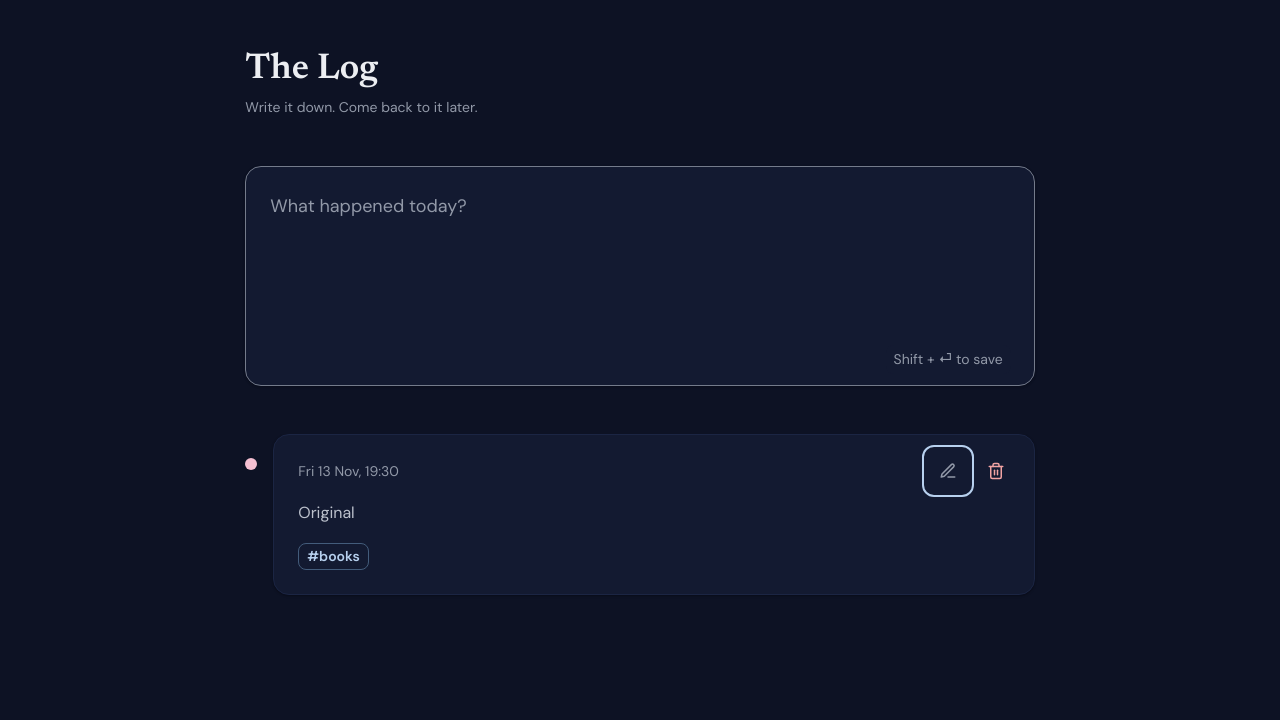
it: removes the card from the log and moves focus to the heading when the dialog closes after "no longer exists"
Step 1. Click the button named "Edit thought, Fri 13 Nov, 19:30" → (948, 471), box [926,449,970,493]
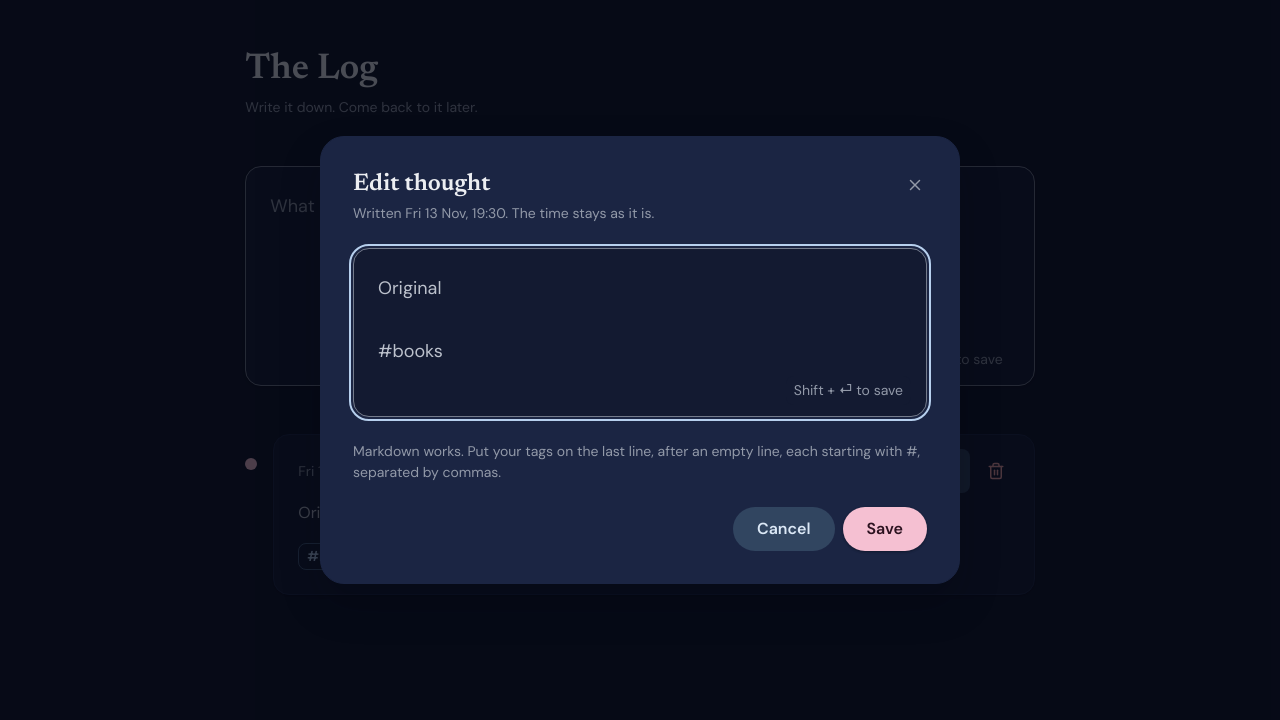
Step 2. Click the button "Save" → (885, 529), box [843,507,927,551]
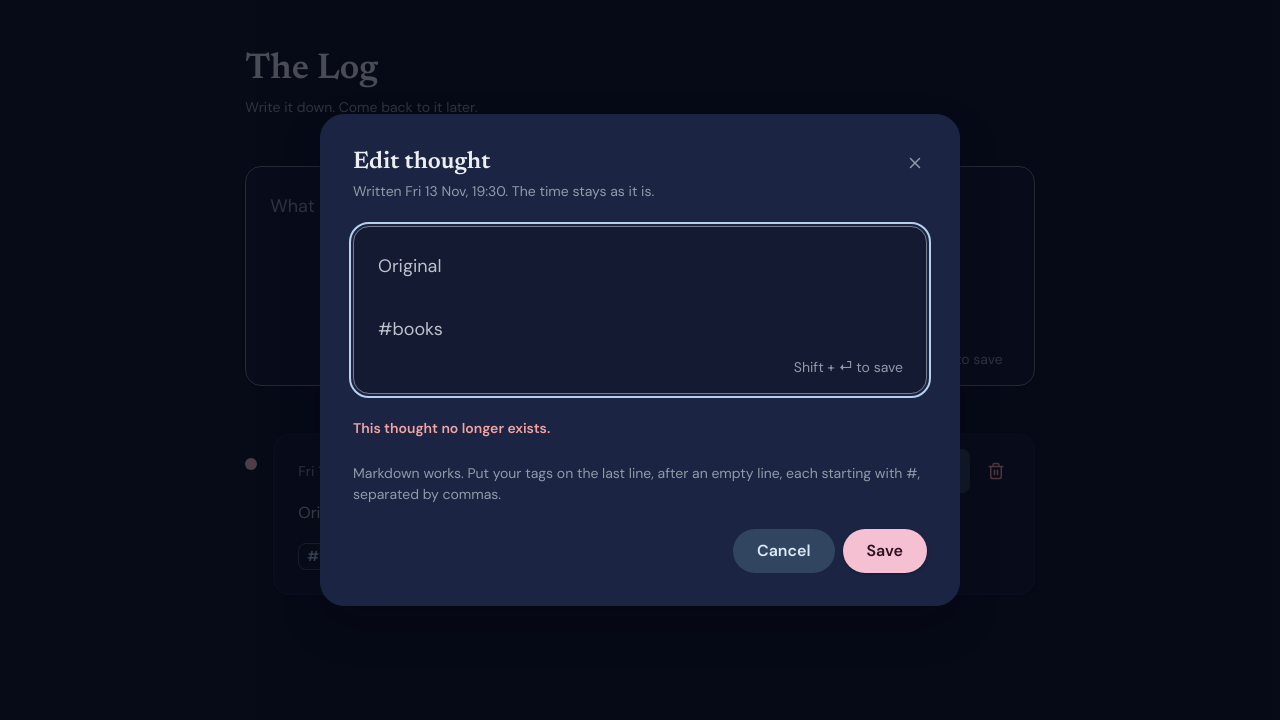
Step 3. Click the button "Cancel" → (784, 551), box [733,529,834,573]
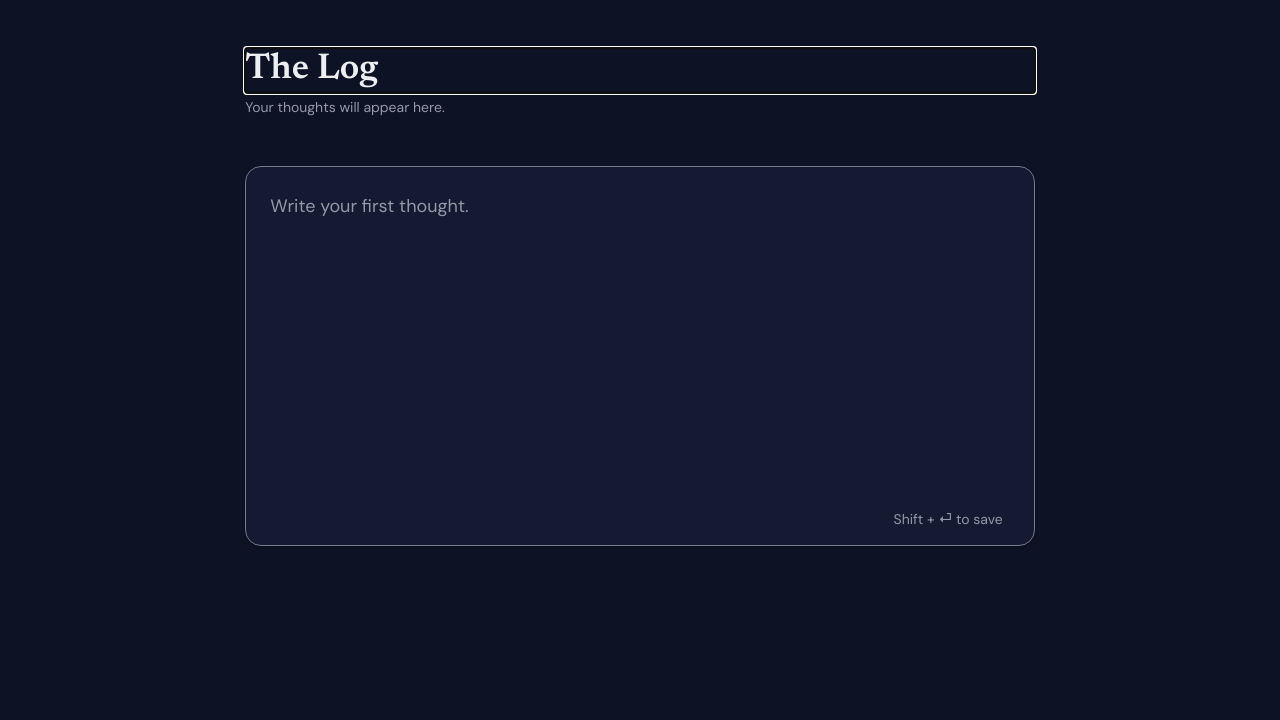
Expected: the dialog with class "edit-dialog" is gone
